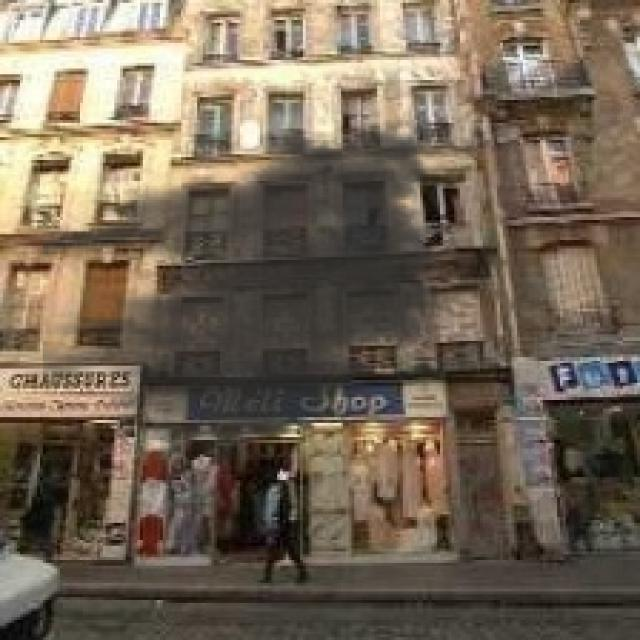Smoke: (43, 109, 466, 478)
